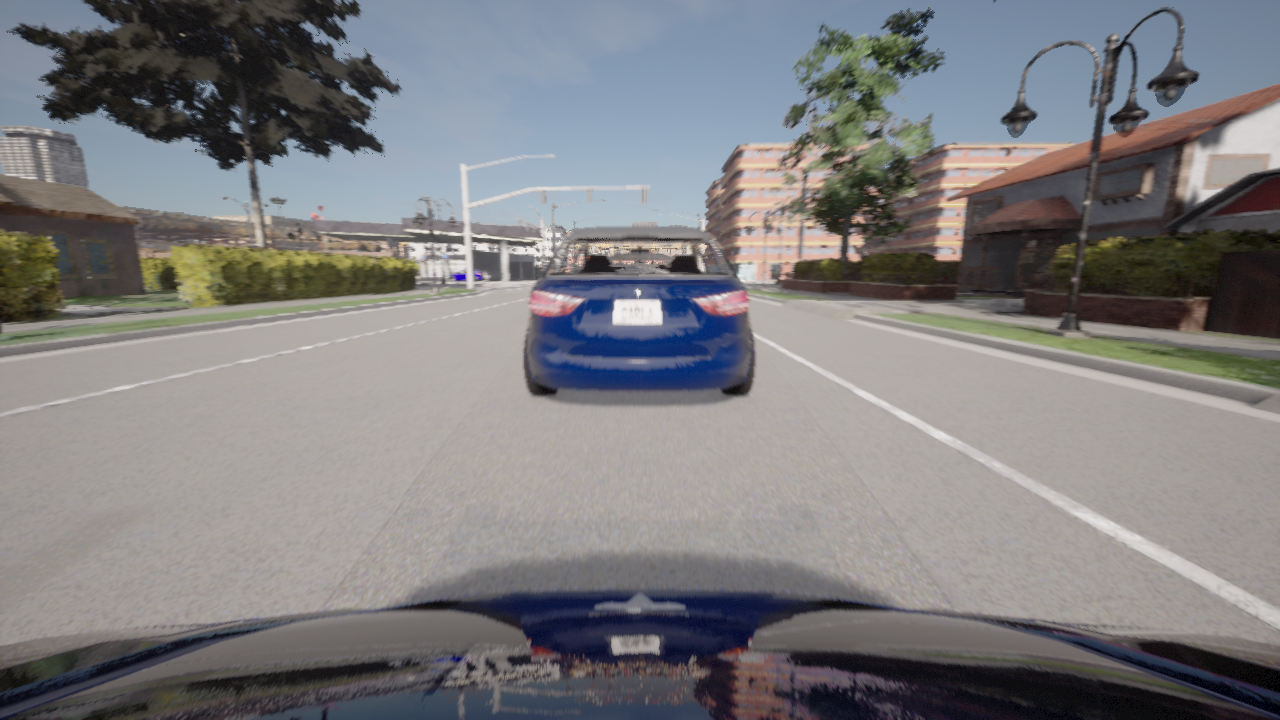cyclist: (0, 588, 1279, 719), (524, 227, 754, 395), (449, 269, 484, 280), (482, 271, 489, 280)
